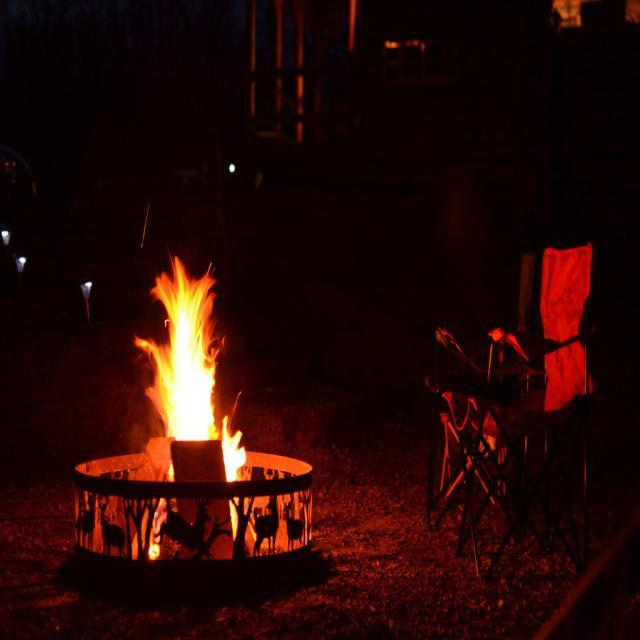Fire: (162, 276, 212, 434)
